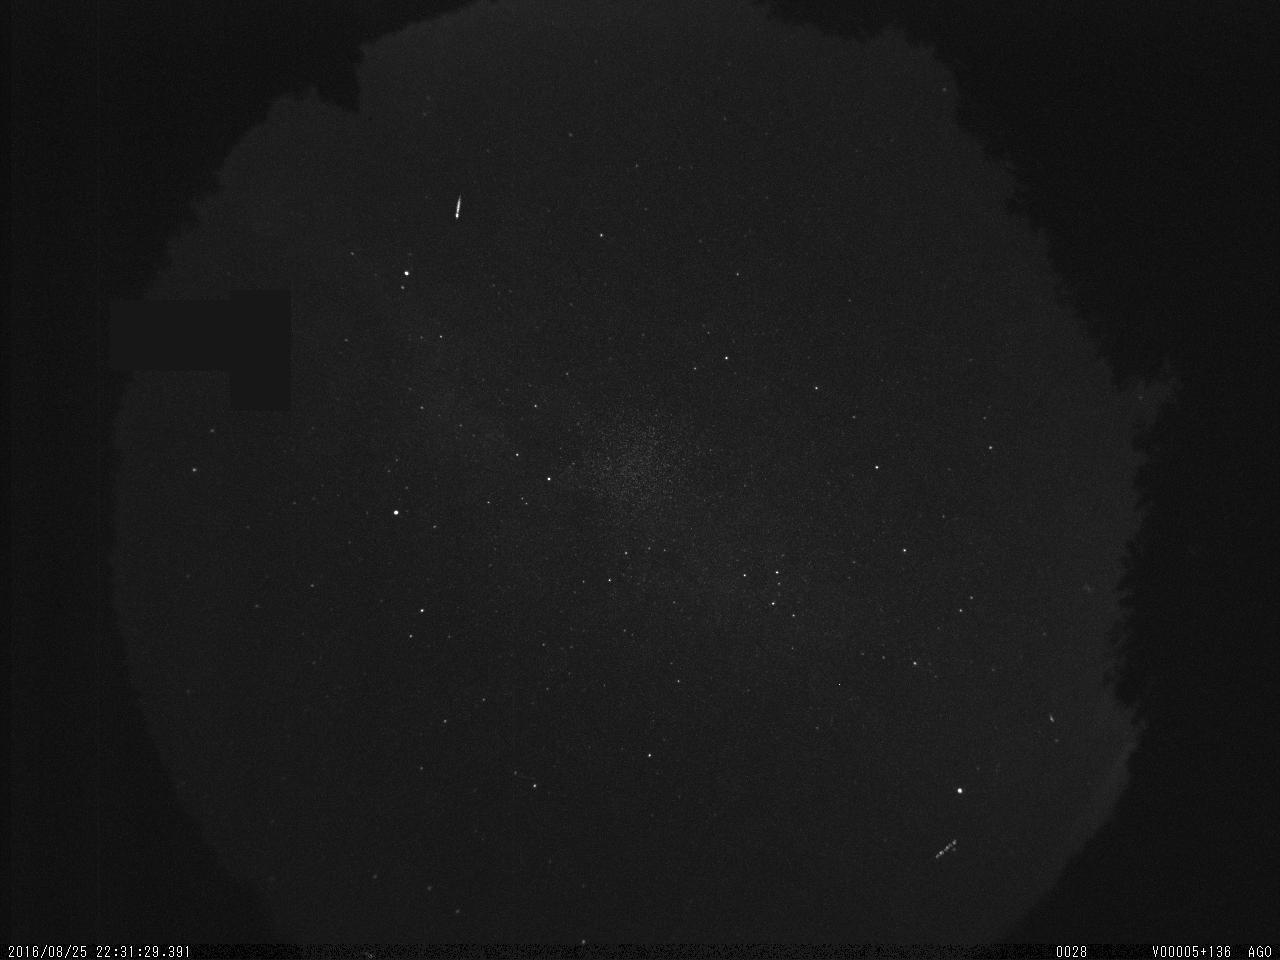meteor: (449, 189, 468, 224)
